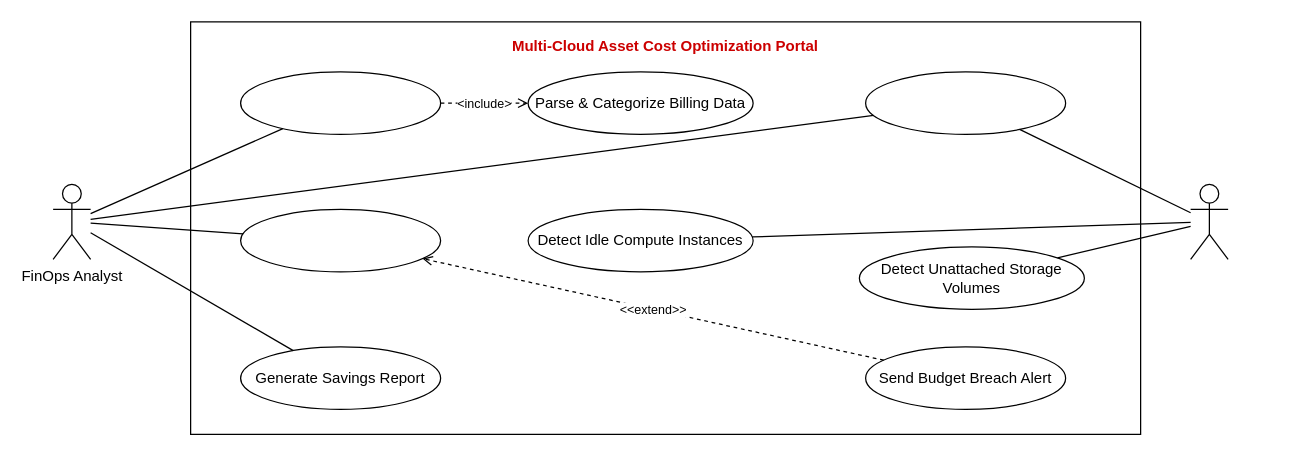
Some shapes in this 1296 by 456 pixel diagram are drawn without their labels. Here are the shapes that lost their labels. From the top down, the centre of each, then its label:
the point at 340,102: Upload Billing CSV
the point at 965,102: View Cost Dashboard
the point at 340,240: Set Budget Threshold
the point at 1208,221: Cloud Administrator
